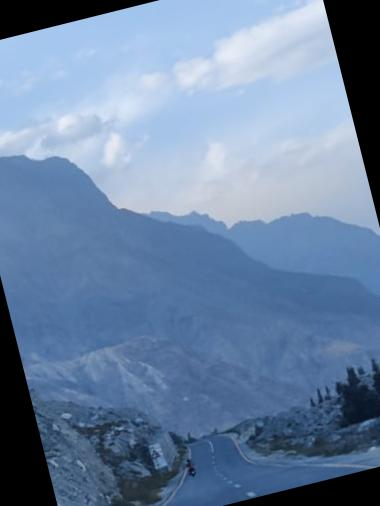sharp_turn: (127, 389, 350, 506)
